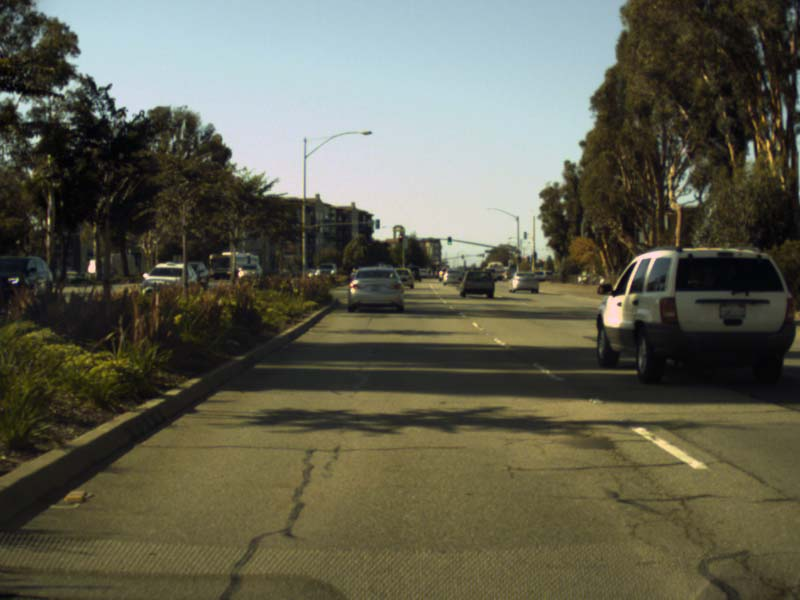Green: (447, 236, 451, 245)
Red: (398, 235, 401, 243)
